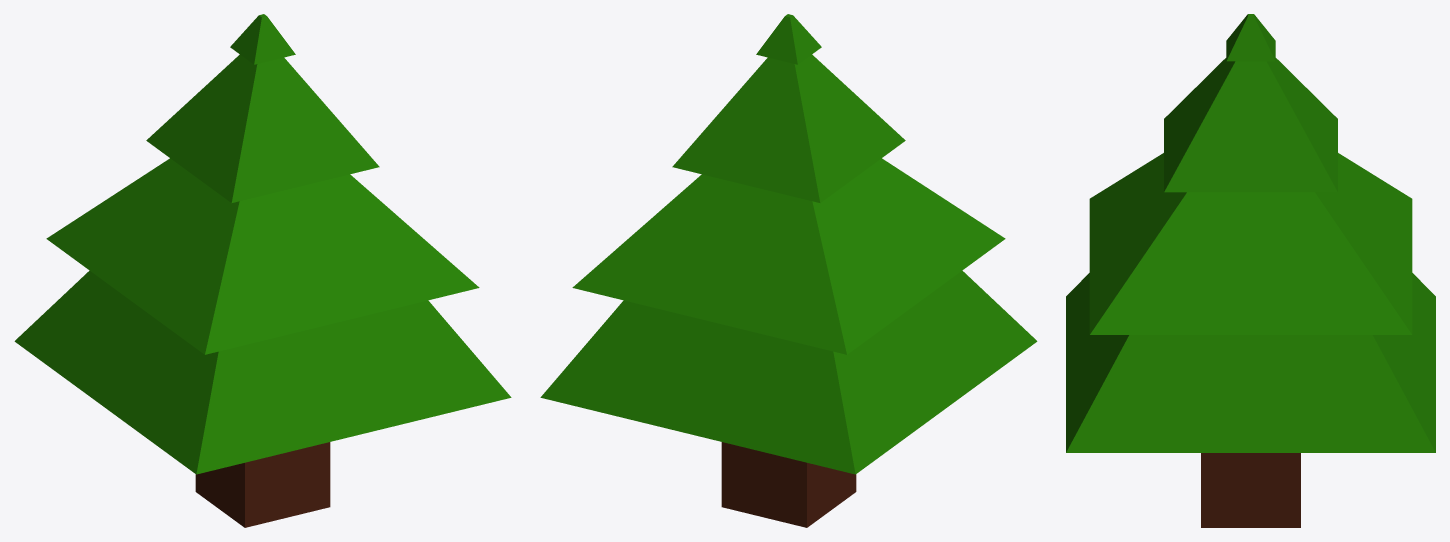
The model's file is Tree.fbx.
3 renders of one model, left to right at view 1: azimuth 30°, elevation 25°; view 2: azimuth 150°, elevation 25°; view 3: azimuth 270°, elevation 25°, orthographic.
Visible parts, largest first — view 1: Cube; view 2: Cube; view 3: Cube.
Boxes of the visible parts, x1,y1,x2,y2 form: Cube: [14, 14, 511, 527]; Cube: [540, 14, 1037, 527]; Cube: [1066, 14, 1435, 527].
Bounding box in the file's own units: 142 × 208 × 142.
